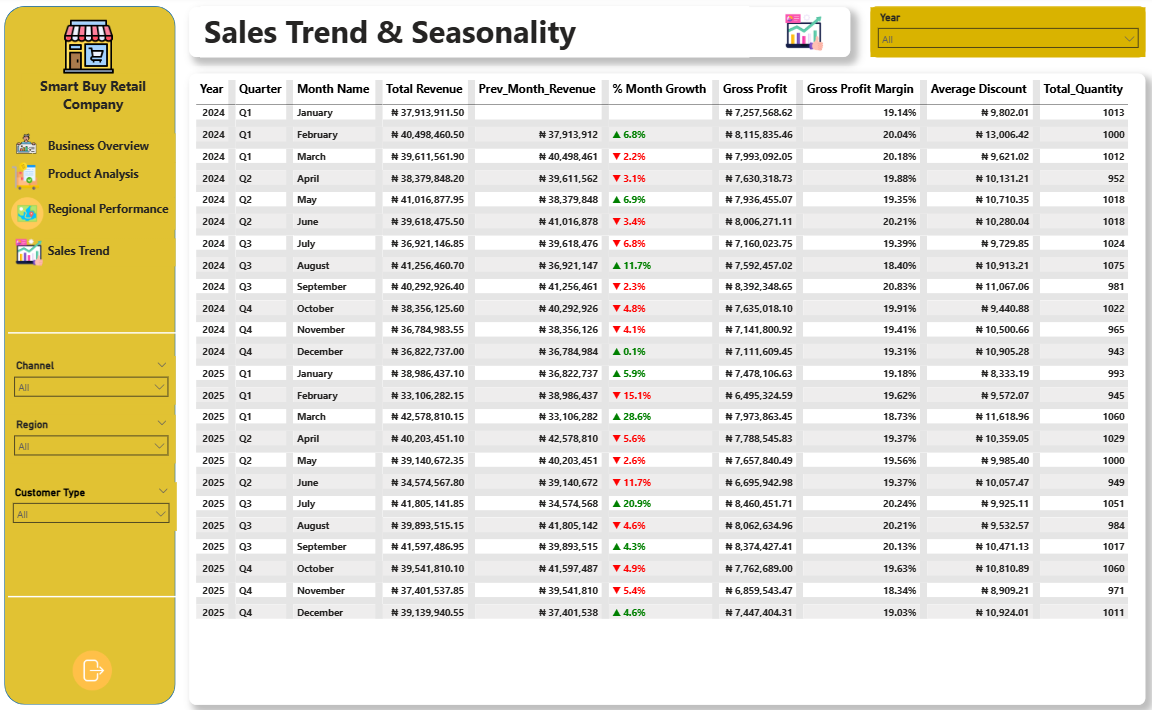

What the dashboard file says about the page in this screenshot:
{"tool":"powerbi","page":{"name":"Monthly Trend","canvas":[1600,1000],"ordinal":3},"visuals":[{"type":"shape","box":[8.6,13.8,236.7,965.8],"z":0},{"type":"shape","box":[264.3,15.5,914,69.1],"z":1000},{"type":"shape","box":[1205.9,13.8,380.1,70.8],"z":2000},{"type":"textbox","box":[32.8,107.1,197,82.9],"z":3000},{"type":"image","box":[63.9,32.8,122.7,74.3],"z":4000},{"type":"image","box":[69.1,901.9,122.7,60.5],"z":5000},{"type":"shape","box":[13.8,758.5,236.7,143.4],"z":6000},{"type":"slicer","fields":{"Values":["Channel.Channel"]},"box":[12.1,497.6,236.7,67.4],"z":7000},{"type":"slicer","fields":{"Values":["Customer.Customer_Type"]},"box":[13.8,672.1,236.7,67.4],"z":8000},{"type":"slicer","fields":{"Values":["Region.Region"]},"box":[12.1,578.8,236.7,67.4],"z":9000},{"type":"shape","box":[13.8,419.8,236.7,91.6],"z":10000},{"type":"textbox","box":[63.9,190,181.4,39.7],"z":11000},{"type":"textbox","box":[63.9,229.8,181.4,48.4],"z":12000},{"type":"textbox","box":[63.9,278.2,181.4,44.9],"z":13000},{"type":"textbox","box":[63.9,335.2,181.4,38],"z":14000},{"type":"image","box":[13.8,190,50.1,27.6],"z":15000},{"type":"image","box":[1066,24.2,96.8,51.8],"z":16000},{"type":"image","box":[10.4,229.8,55.3,38],"z":17000},{"type":"image","box":[15.5,278.2,50.1,44.9],"z":18000},{"type":"image","box":[17.3,335.2,51.8,38],"z":19000},{"type":"textbox","box":[279.9,15.5,758.5,70.8],"z":20000},{"type":"tableEx","fields":{"Values":["DateTable.Year","DateTable.Quarter","DateTable.Month Name","Measure_Table.Total Revenue","Measure_Table.Prev_Month_Revenue","Measure_Table.% Month Growth","Measure_Table.Gross Profit","Measure_Table.Gross Profit Margin","Measure_Table.Average Discount","Measure_Table.Total_Quantity"]},"box":[264.3,107.1,1321.7,872.5],"z":24000},{"type":"slicer","fields":{"Values":["DateTable.Year"]},"box":[1205.9,15.5,380.1,69.1],"z":24002}]}

Visuals, with their boxes on the page's 1600x1000 design canvas (x1, y1, x2, y2). These are canvas units, not pixel positions in the 1152x710 screenshot, which may show the page scaled, cropped or inside an application window:
shape: select_region(9, 14, 245, 980)
shape: select_region(264, 16, 1178, 85)
shape: select_region(1206, 14, 1586, 85)
textbox: select_region(33, 107, 230, 190)
image: select_region(64, 33, 187, 107)
image: select_region(69, 902, 192, 962)
shape: select_region(14, 758, 250, 902)
slicer - Channel.Channel: select_region(12, 498, 249, 565)
slicer - Customer.Customer_Type: select_region(14, 672, 250, 740)
slicer - Region.Region: select_region(12, 579, 249, 646)
shape: select_region(14, 420, 250, 511)
textbox: select_region(64, 190, 245, 230)
textbox: select_region(64, 230, 245, 278)
textbox: select_region(64, 278, 245, 323)
textbox: select_region(64, 335, 245, 373)
image: select_region(14, 190, 64, 218)
image: select_region(1066, 24, 1163, 76)
image: select_region(10, 230, 66, 268)
image: select_region(16, 278, 66, 323)
image: select_region(17, 335, 69, 373)
textbox: select_region(280, 16, 1038, 86)
tableEx - DateTable.Year x DateTable.Quarter: select_region(264, 107, 1586, 980)
slicer - DateTable.Year: select_region(1206, 16, 1586, 85)
